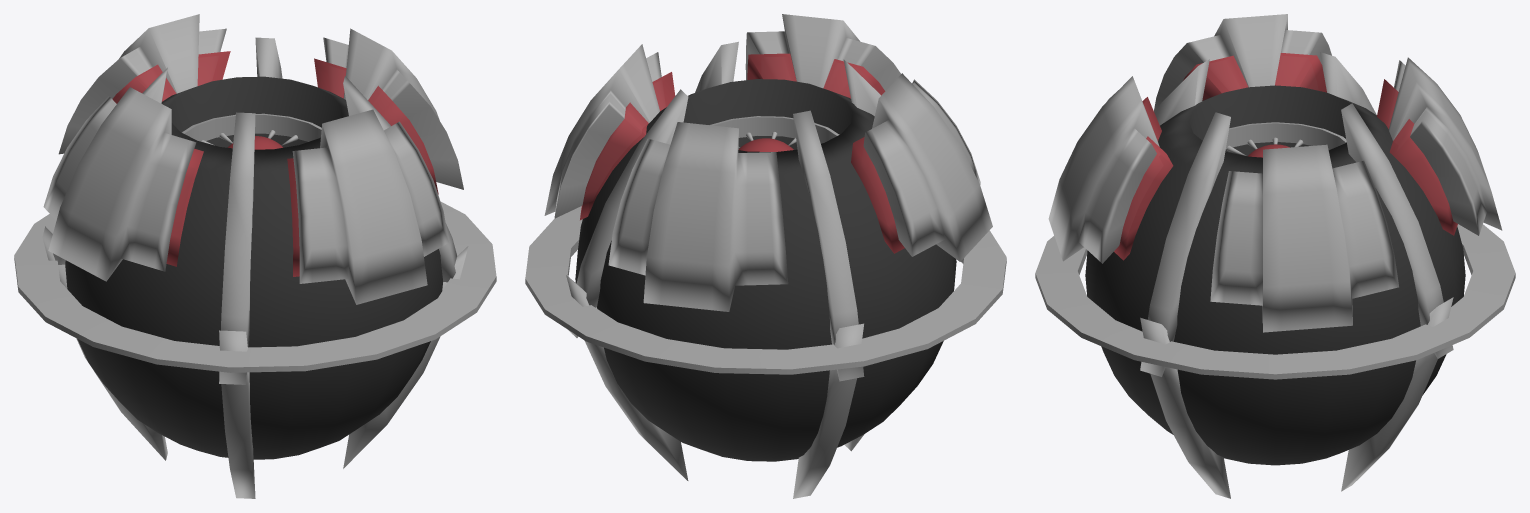
File: Boss02_core.fbx
3 renders of one model, left to right at view 1: azimuth 30°, elevation 25°; view 2: azimuth 150°, elevation 25°; view 3: azimuth 270°, elevation 25°, orthographic.
Visible parts, largest first — view 1: pSphere10, pSphere18, pSphere19, pPipe2, pSphere20, pSphere17, pSphere21, pSphere28, pPipe1, pSphere16, pSphere27, pSphere15 (+5 smaller); view 2: pSphere10, pSphere17, pPipe2, pSphere19, pSphere20, pSphere22, pSphere18, pSphere25, pSphere24, pSphere16, pSphere26, pSphere14 (+5 smaller); view 3: pSphere10, pSphere20, pPipe2, pSphere18, pSphere17, pSphere19, pSphere23, pSphere24, pSphere27, pSphere26, pSphere15, pSphere13 (+4 smaller).
Part boxes in pixels (x1,y1,x2,y2): pSphere10: (65, 76, 443, 459); pSphere18: (292, 109, 448, 304); pSphere19: (43, 87, 196, 281); pPipe2: (14, 201, 496, 372); pSphere20: (323, 28, 463, 189); pSphere17: (58, 14, 226, 154); pSphere21: (219, 112, 255, 384); pSphere28: (219, 330, 255, 498); pPipe1: (182, 113, 321, 141); pSphere16: (314, 58, 438, 194); pSphere27: (343, 246, 468, 468); pSphere15: (112, 51, 230, 103); pSphere10: (575, 79, 956, 461); pSphere17: (608, 122, 788, 311); pPipe2: (525, 206, 1006, 374); pSphere19: (863, 73, 992, 261); pSphere20: (544, 44, 661, 218); pSphere22: (793, 110, 864, 381); pSphere18: (745, 14, 900, 90); pSphere25: (793, 323, 863, 498); pSphere24: (568, 89, 688, 337); pSphere16: (580, 72, 675, 220); pSphere26: (566, 275, 688, 480); pSphere14: (747, 53, 885, 98); pSphere10: (1085, 85, 1465, 465); pSphere20: (1210, 144, 1398, 332); pPipe2: (1035, 224, 1515, 379); pSphere18: (1048, 76, 1159, 263); pSphere17: (1388, 57, 1502, 235); pSphere19: (1154, 14, 1331, 112); pSphere23: (1140, 112, 1230, 376); pSphere24: (1341, 103, 1453, 358); pSphere27: (1140, 317, 1230, 498); pSphere26: (1341, 297, 1453, 491); pSphere15: (1377, 79, 1457, 235); pSphere13: (1183, 53, 1326, 100).
Bounding box in the file's own units: 253 × 229 × 253.
